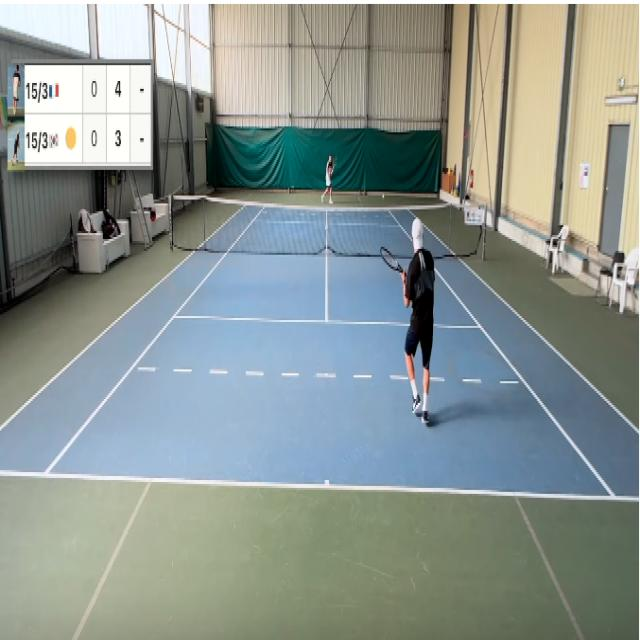ball: (381, 192, 385, 200)
